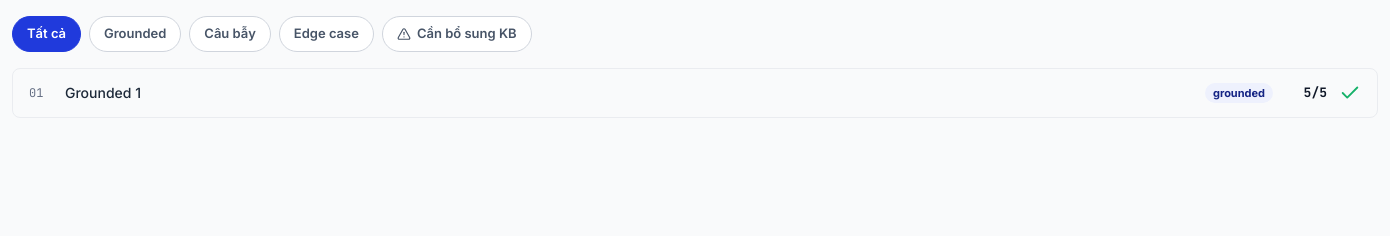
EvalTestList › bấm lần nữa thì gập lại
Click the button "01 Grounded 1 grounded 5/5": (103, 92) [13, 69, 1377, 117]
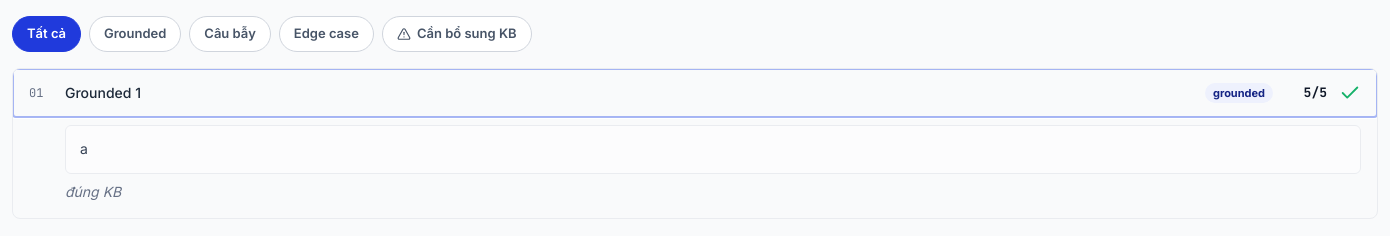
Click the button "01 Grounded 1 grounded 5/5": (103, 92) [13, 69, 1377, 117]
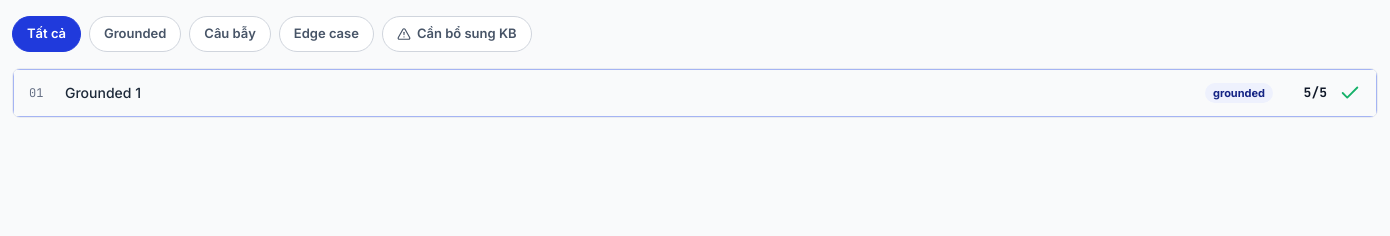
Check: the text "đúng KB" is gone
